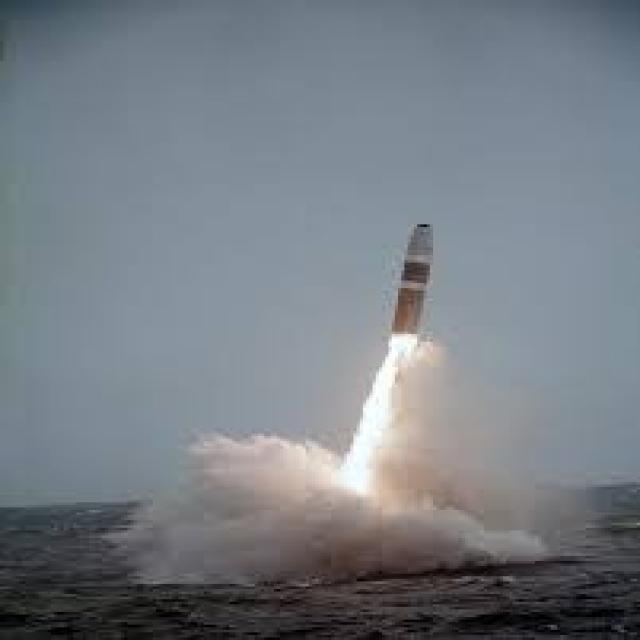missile: (392, 222, 430, 339)
